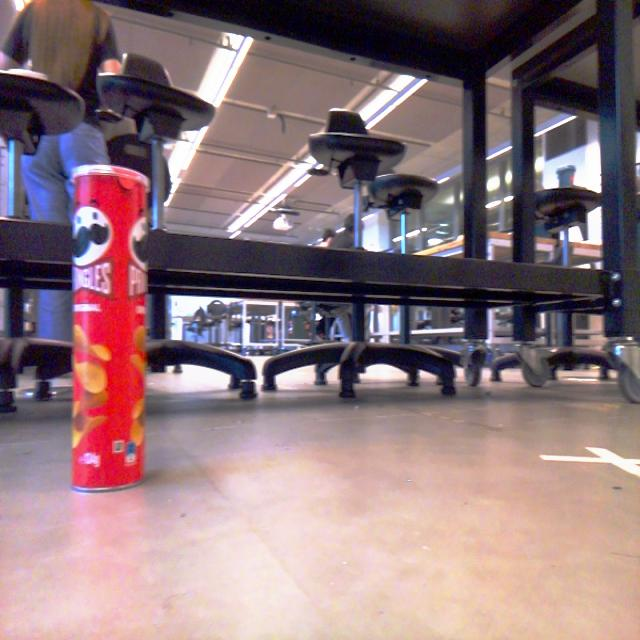redpringles: (62, 150, 160, 504)
